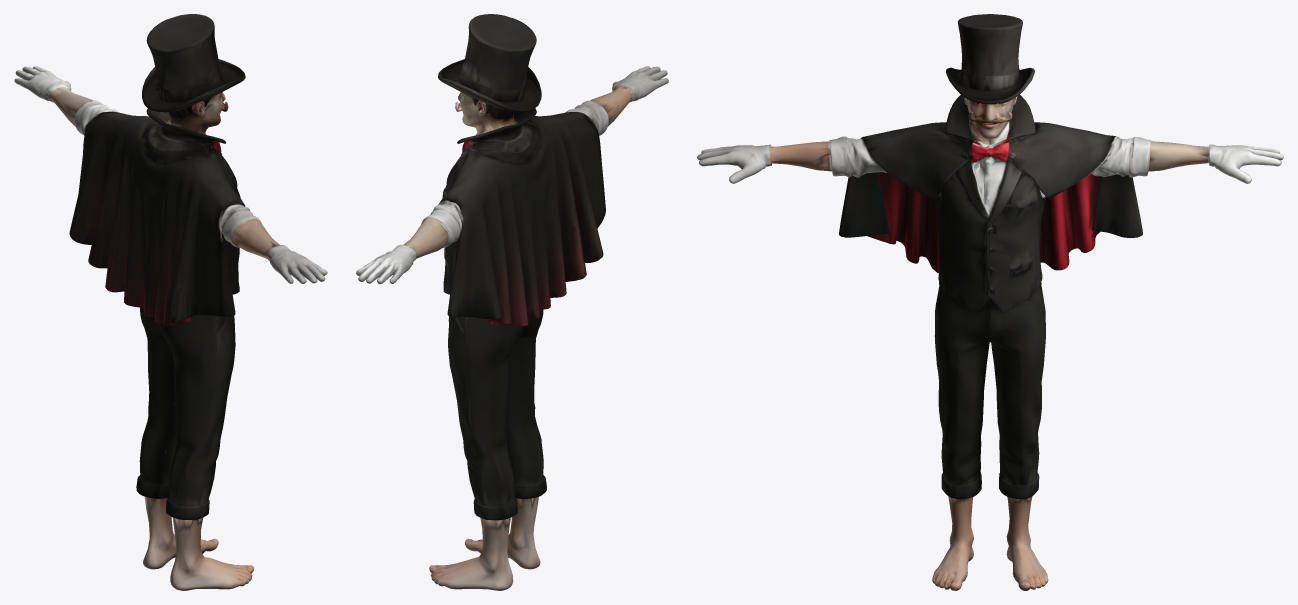
File: the-magician.glb
The picture shows the model from 3 angles, left to right: view 1: azimuth 30°, elevation 25°; view 2: azimuth 150°, elevation 25°; view 3: azimuth 270°, elevation 25°; orthographic projection.
Parts seen in each view (by area): view 1: 20-magician; view 2: 20-magician; view 3: 20-magician.
Boxes of the visible parts, x1,y1,x2,y2 form: 20-magician: (14,14,327,590); 20-magician: (356,14,668,590); 20-magician: (697,14,1283,590).
Bounding box in the file's own units: 0.2141 × 0.9786 × 0.9407.
1 material, 1 textured.
